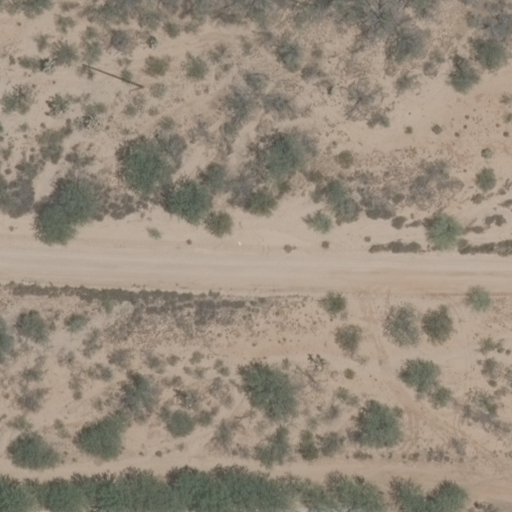DT: (80, 65, 145, 90)
